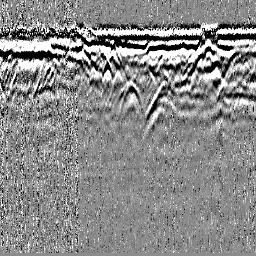cavity: (118, 80, 144, 116)
